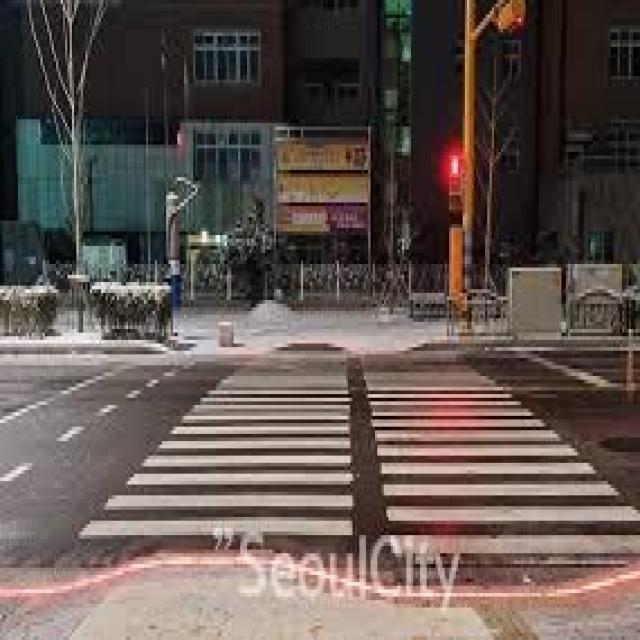crosswalk: (60, 309, 640, 572)
red-light: (446, 141, 468, 227)
